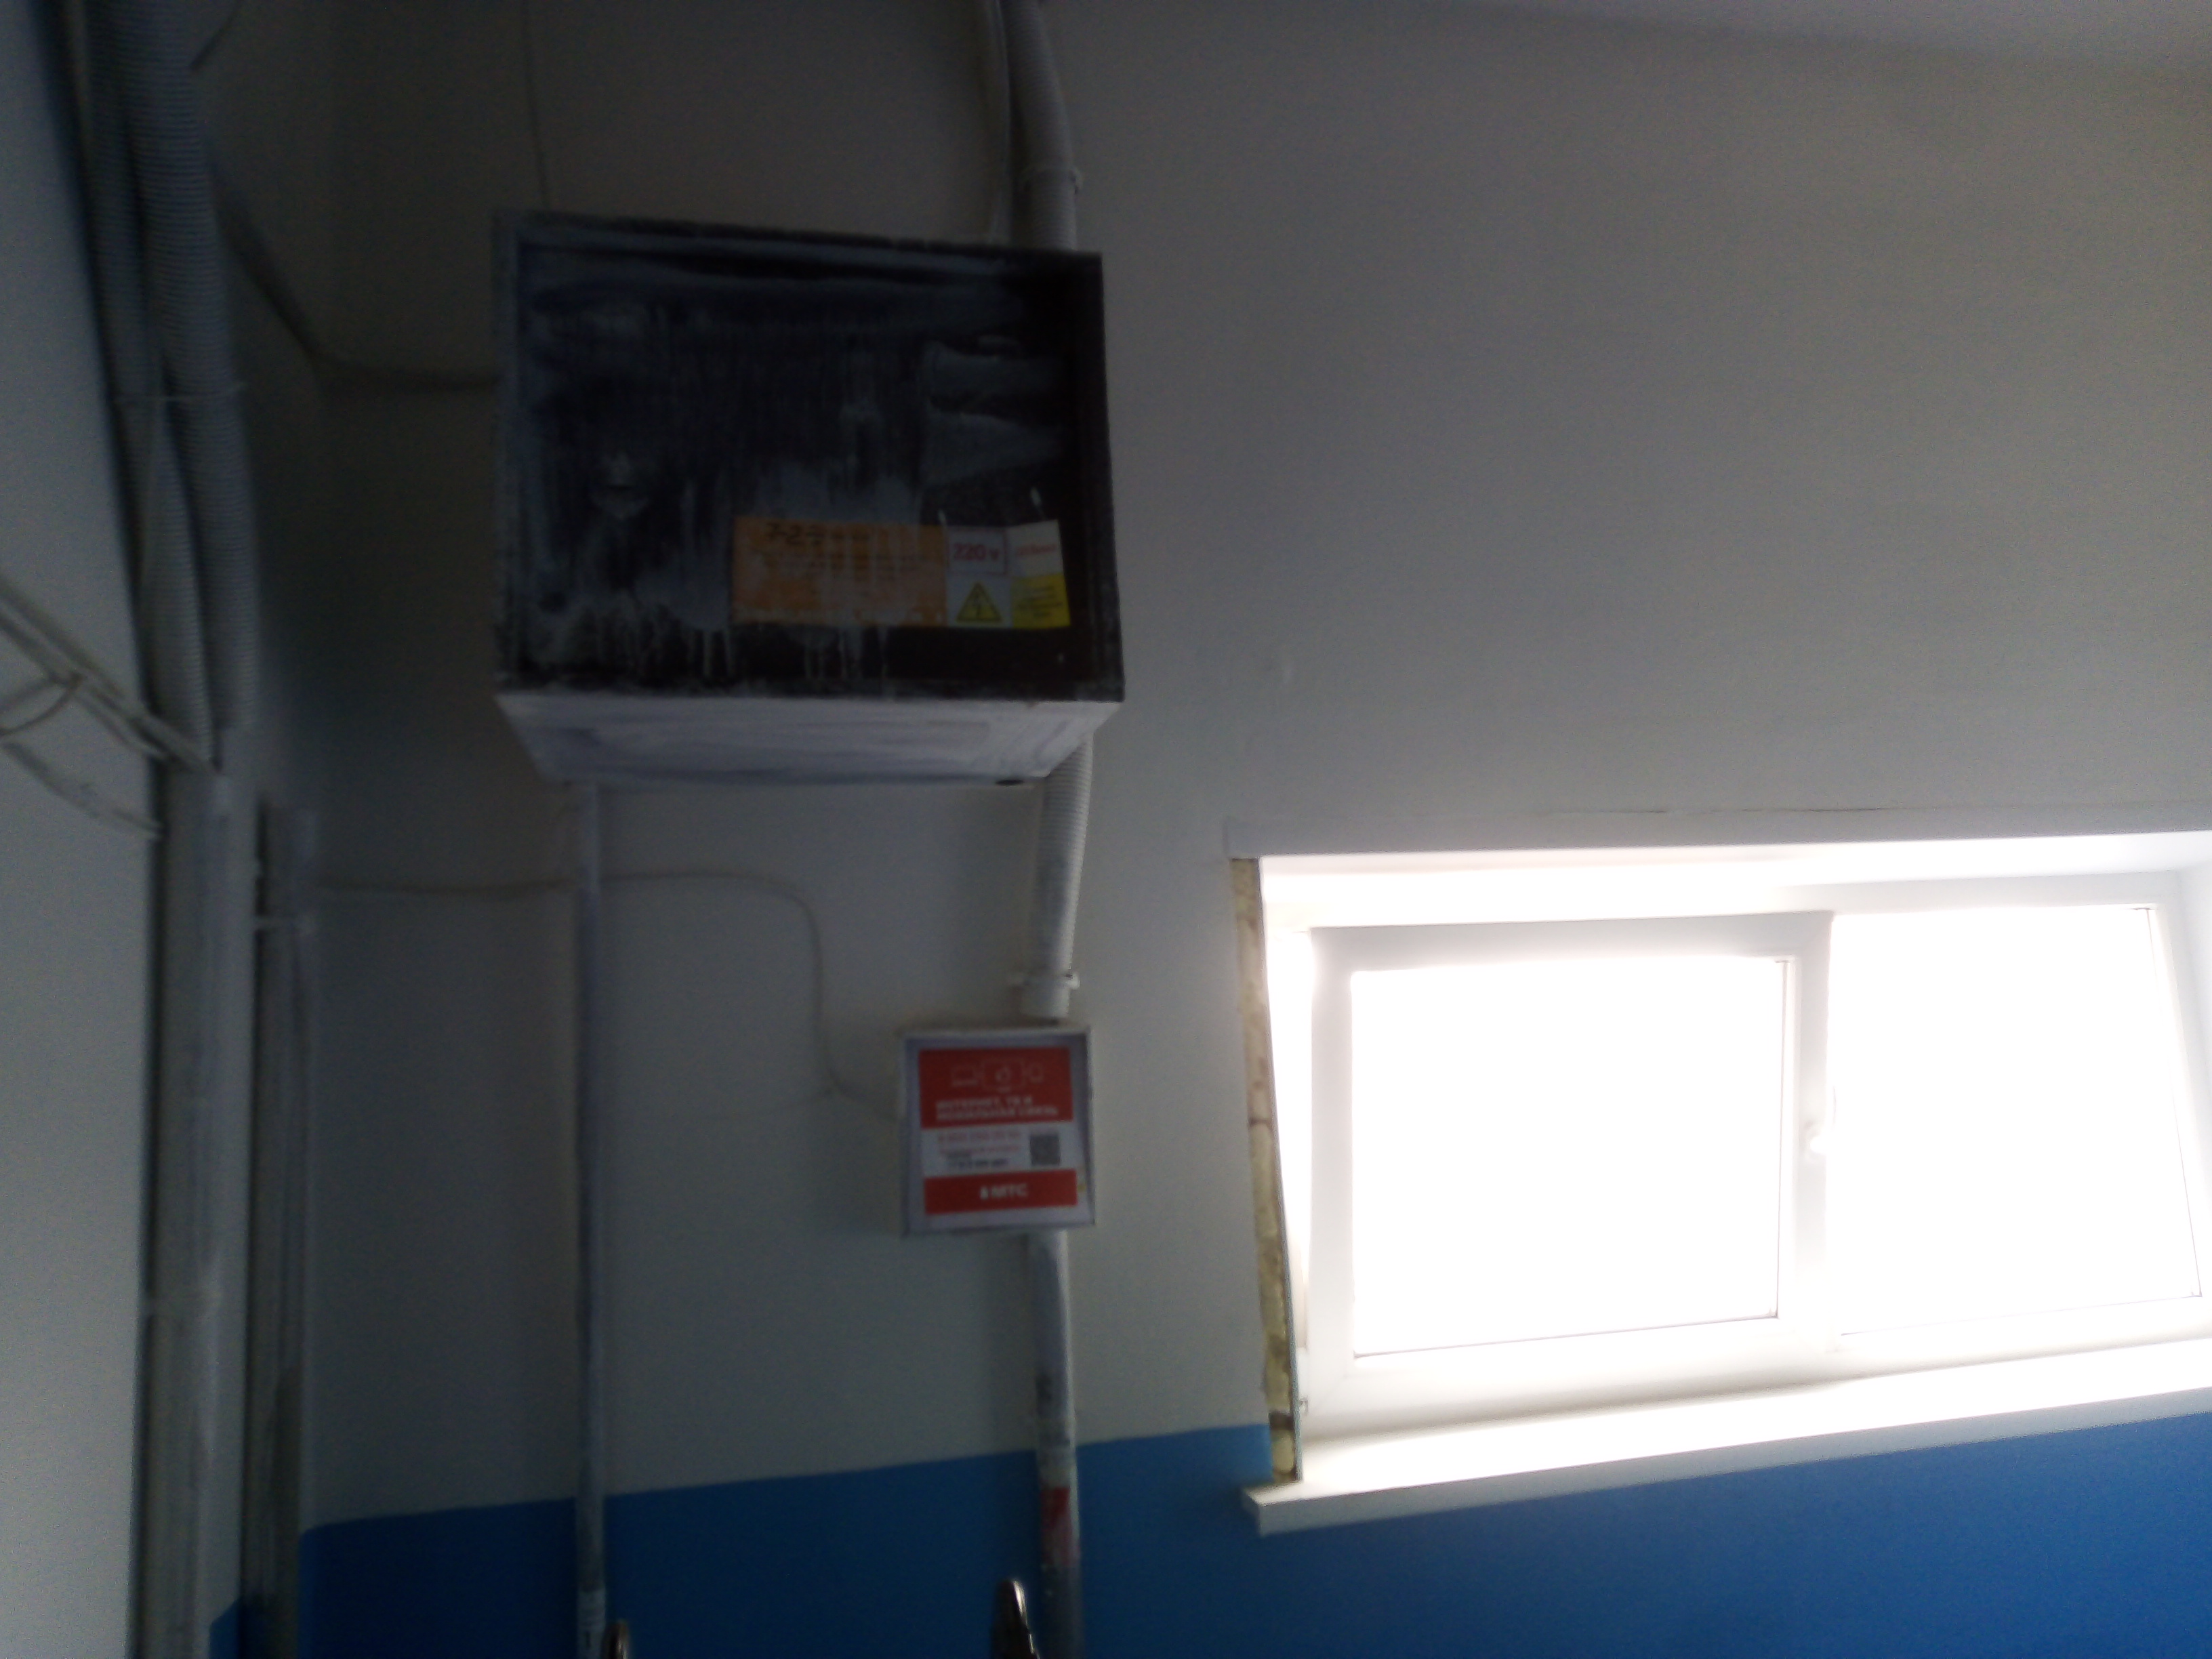shta-9m: (482, 199, 1139, 796)
